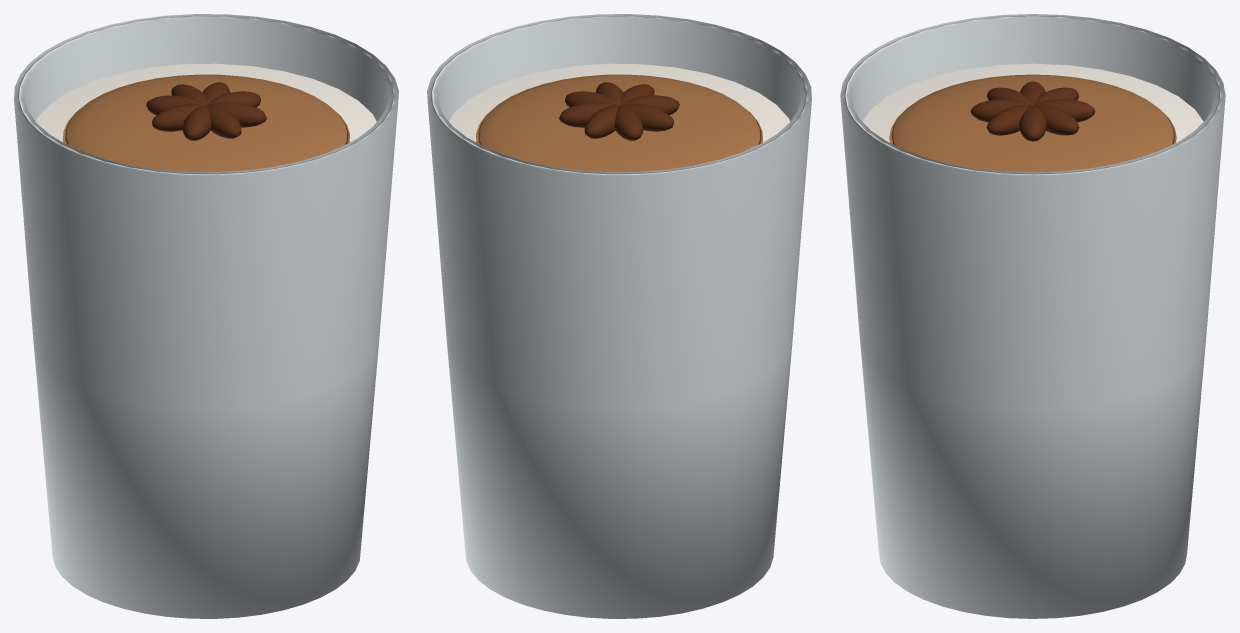
Rendered from alba-anise-cardamom-latte.glb.
The picture shows the model from 3 angles, left to right: view 1: azimuth 30°, elevation 25°; view 2: azimuth 150°, elevation 25°; view 3: azimuth 270°, elevation 25°; orthographic projection.
Bounding box in the file's own units: 0.08 × 0.105 × 0.08.
